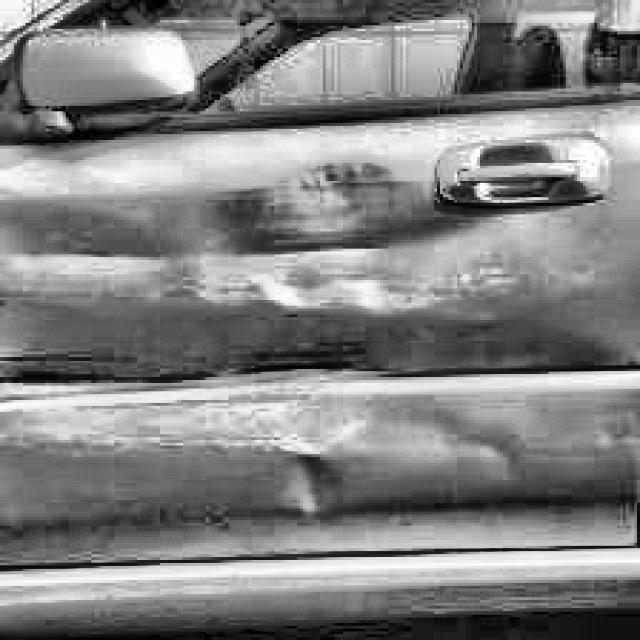door_dent: (6, 162, 636, 520)
